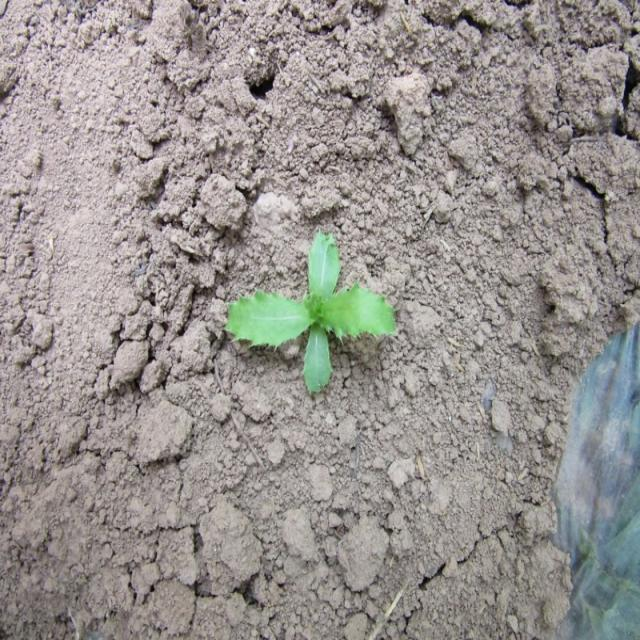cs: (218, 224, 403, 400)
